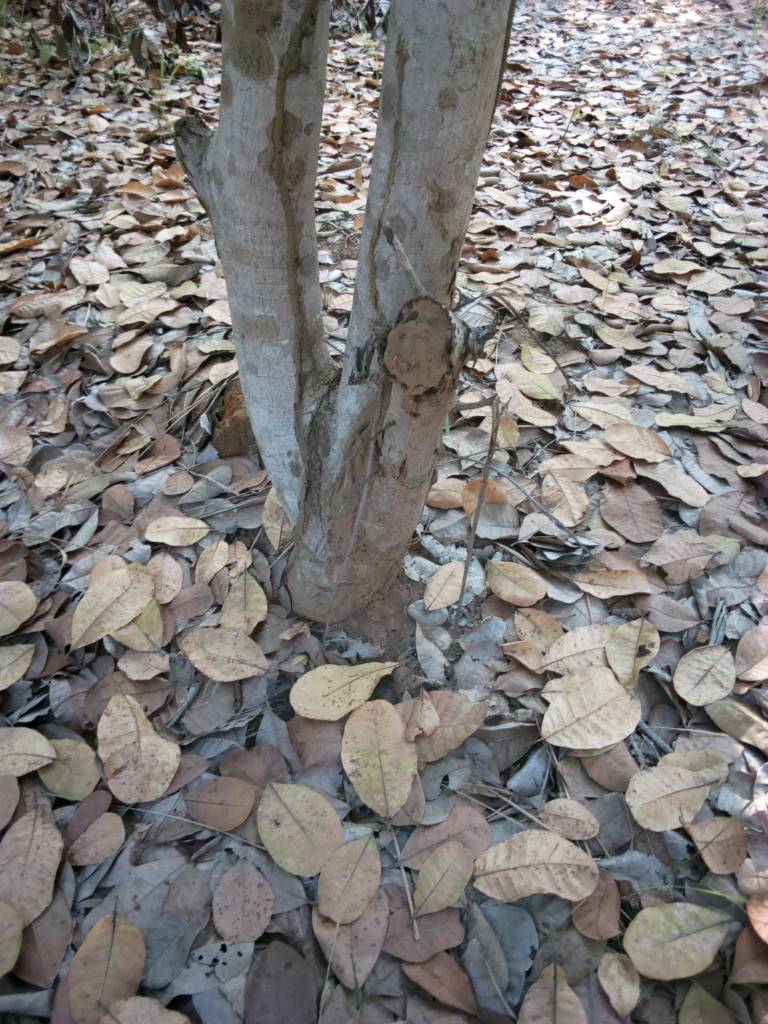Termites: (354, 311, 447, 592), (274, 17, 321, 503)
